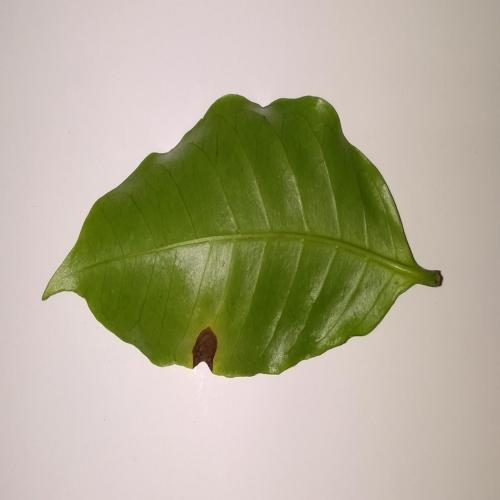leaf: (37, 83, 445, 384)
phoma: (186, 315, 221, 378)
